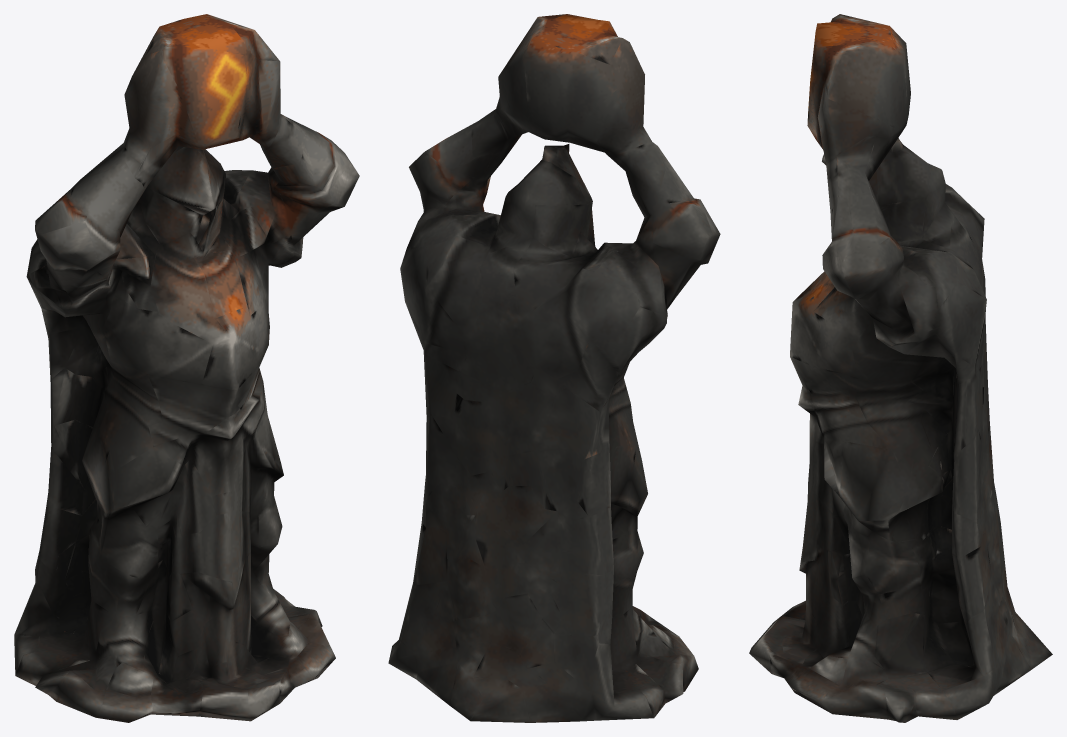
The model's file is guardian_statue_warding.glb.
3 renders of one model, left to right at view 1: azimuth 30°, elevation 25°; view 2: azimuth 150°, elevation 25°; view 3: azimuth 270°, elevation 25°, orthographic. The views are drawn at different scales.
Bounding box in the file's own units: 0.9831 × 1.99 × 0.8729.
Materials: 1 (1 with a texture image).
